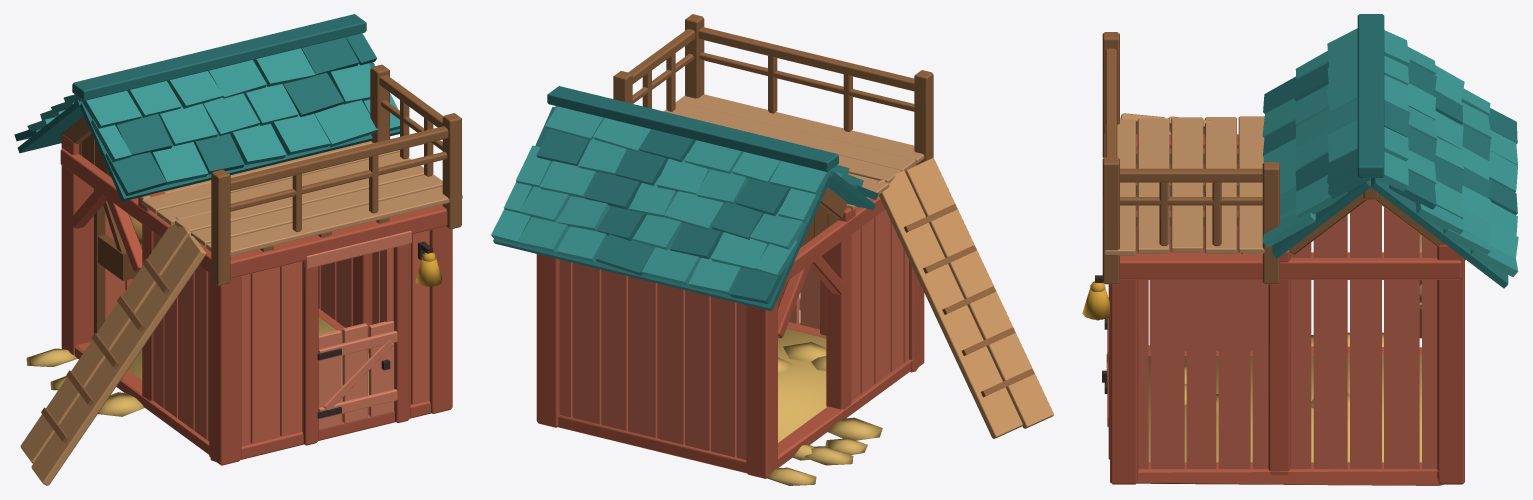
Rendered from goat-shelter-complete.glb.
3 renders of one model, left to right at view 1: azimuth 30°, elevation 25°; view 2: azimuth 150°, elevation 25°; view 3: azimuth 270°, elevation 25°, orthographic. The views are drawn at different scales.
Parts seen in each view (by area): view 1: walls, posts, shingles, deck_boards, railing, ramp, plates, door, shingles_dark, ridge_cap, sills, roof_boards (+6 smaller); view 2: walls, shingles, ramp, posts, shingles_dark, railing, deck_boards, straw, ridge_cap, sills, plates, roof_boards (+3 smaller); view 3: walls, shingles, posts, deck_boards, railing, shingles_dark, plates, sills, ridge_cap, roof_boards, straw, ridge_rafters (+1 smaller).
Boxes of the visible parts, bbox=[...] form: walls: bbox=[93, 189, 429, 446]; posts: bbox=[61, 134, 452, 465]; shingles: bbox=[27, 48, 399, 184]; deck_boards: bbox=[141, 141, 462, 255]; railing: bbox=[211, 64, 461, 285]; ramp: bbox=[20, 216, 206, 485]; plates: bbox=[60, 148, 447, 278]; door: bbox=[304, 231, 411, 429]; shingles_dark: bbox=[14, 33, 376, 196]; ridge_cap: bbox=[72, 14, 366, 100]; sills: bbox=[75, 308, 431, 462]; roof_boards: bbox=[17, 62, 399, 201]; walls: bbox=[559, 209, 908, 459]; shingles: bbox=[491, 106, 863, 294]; ramp: bbox=[877, 158, 1053, 438]; posts: bbox=[536, 204, 924, 478]; shingles_dark: bbox=[536, 129, 878, 304]; railing: bbox=[613, 14, 933, 164]; deck_boards: bbox=[663, 94, 924, 210]; straw: bbox=[767, 328, 882, 485]; ridge_cap: bbox=[547, 86, 838, 171]; sills: bbox=[557, 322, 918, 473]; plates: bbox=[778, 164, 916, 338]; roof_boards: bbox=[493, 106, 875, 311]; walls: bbox=[1138, 163, 1436, 468]; shingles: bbox=[1262, 28, 1518, 276]; posts: bbox=[1108, 143, 1464, 484]; deck_boards: bbox=[1104, 116, 1264, 255]; railing: bbox=[1102, 32, 1279, 284]; shingles_dark: bbox=[1263, 61, 1517, 214]; plates: bbox=[1120, 134, 1465, 279]; sills: bbox=[1137, 345, 1443, 485]; ridge_cap: bbox=[1357, 14, 1384, 177]; roof_boards: bbox=[1272, 178, 1508, 288]; straw: bbox=[1148, 332, 1421, 462]; ridge_rafters: bbox=[1289, 188, 1446, 254].
Size of the model in its own units: 3.92 by 2.73 by 3.24.
